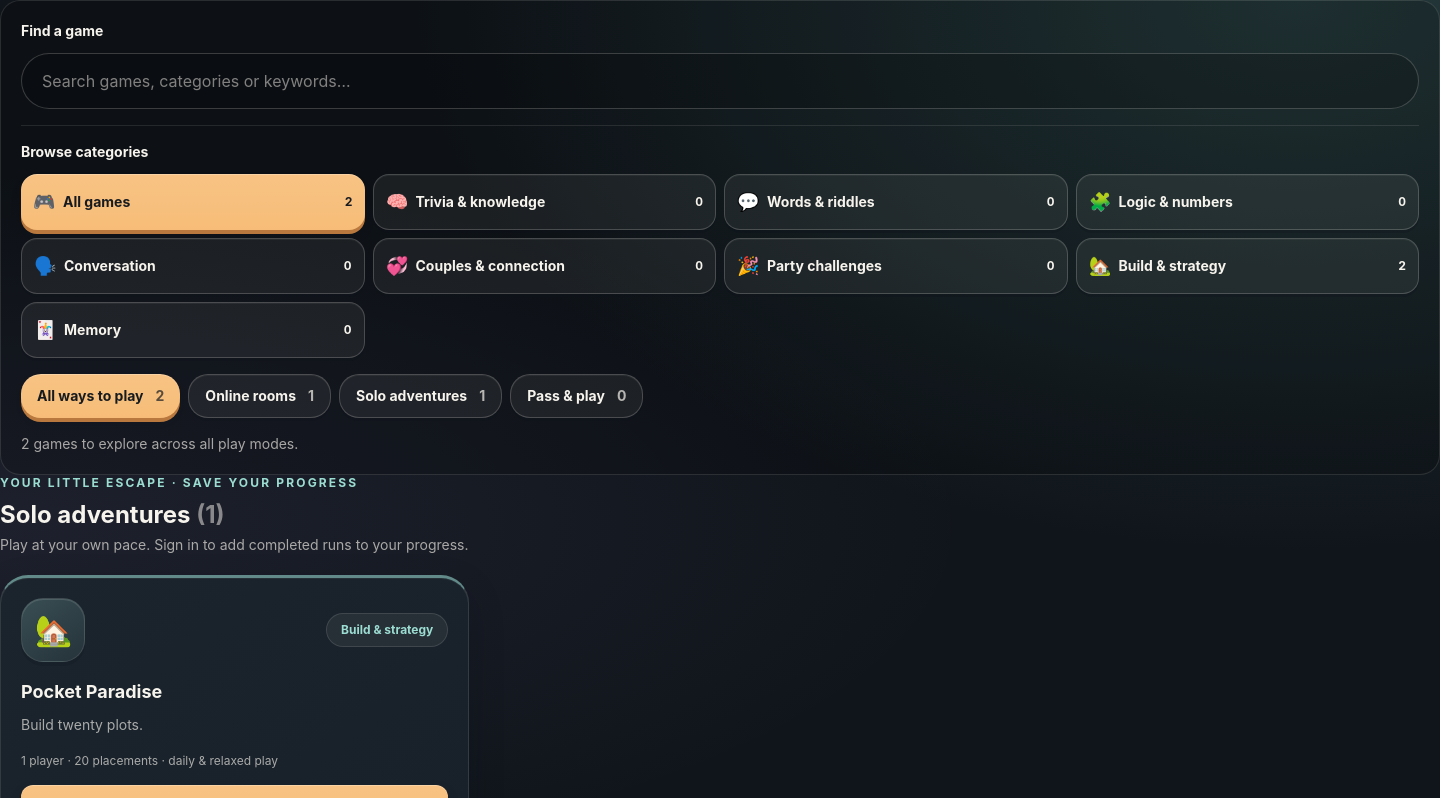
new strategy games retain distinct solo and online launch flows
Click the button "🏡 Build & strategy 2" at (1172, 266), box x1=1076 y1=238 x2=1419 y2=294
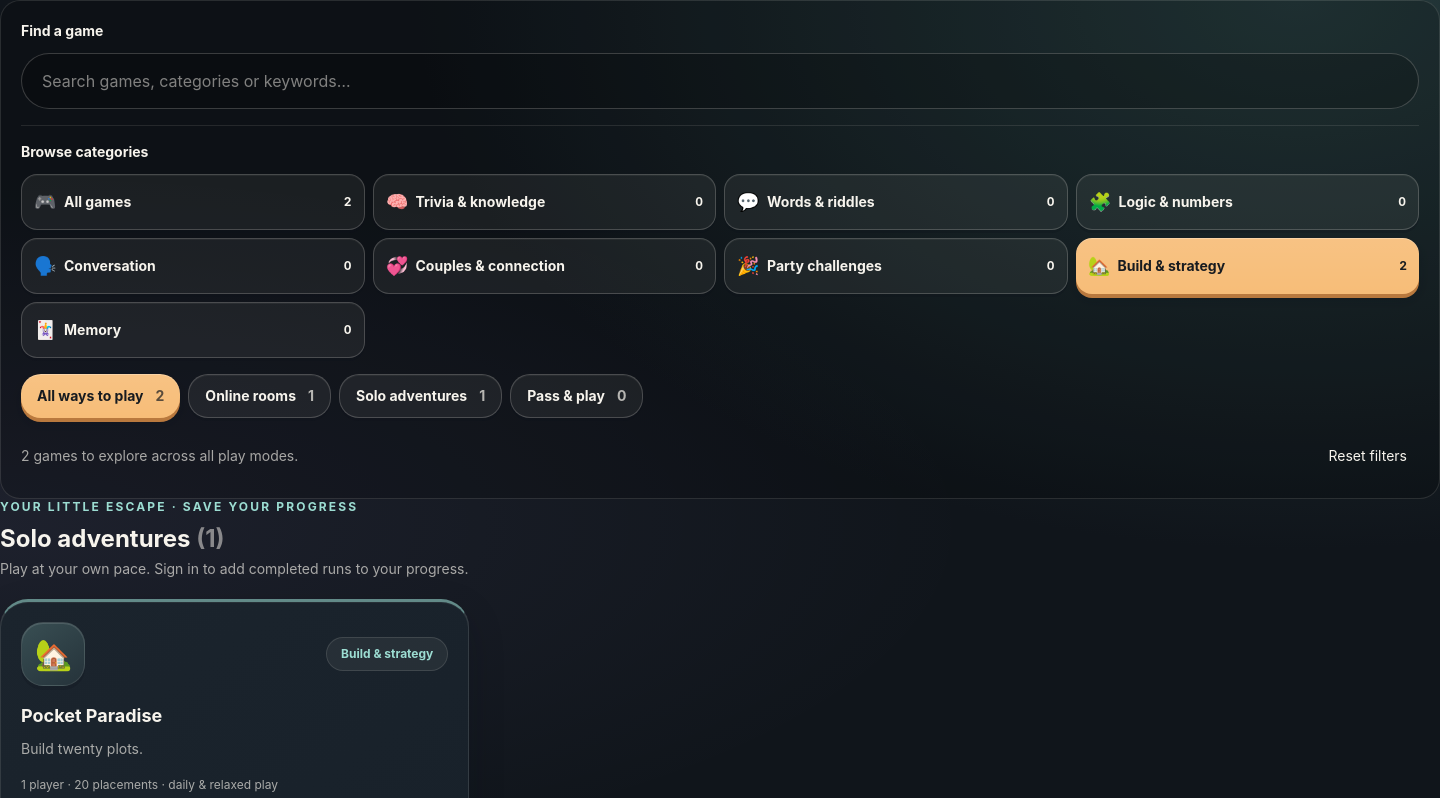
Click the button "Solo adventures 1" at (421, 396), box x1=339 y1=374 x2=502 y2=418
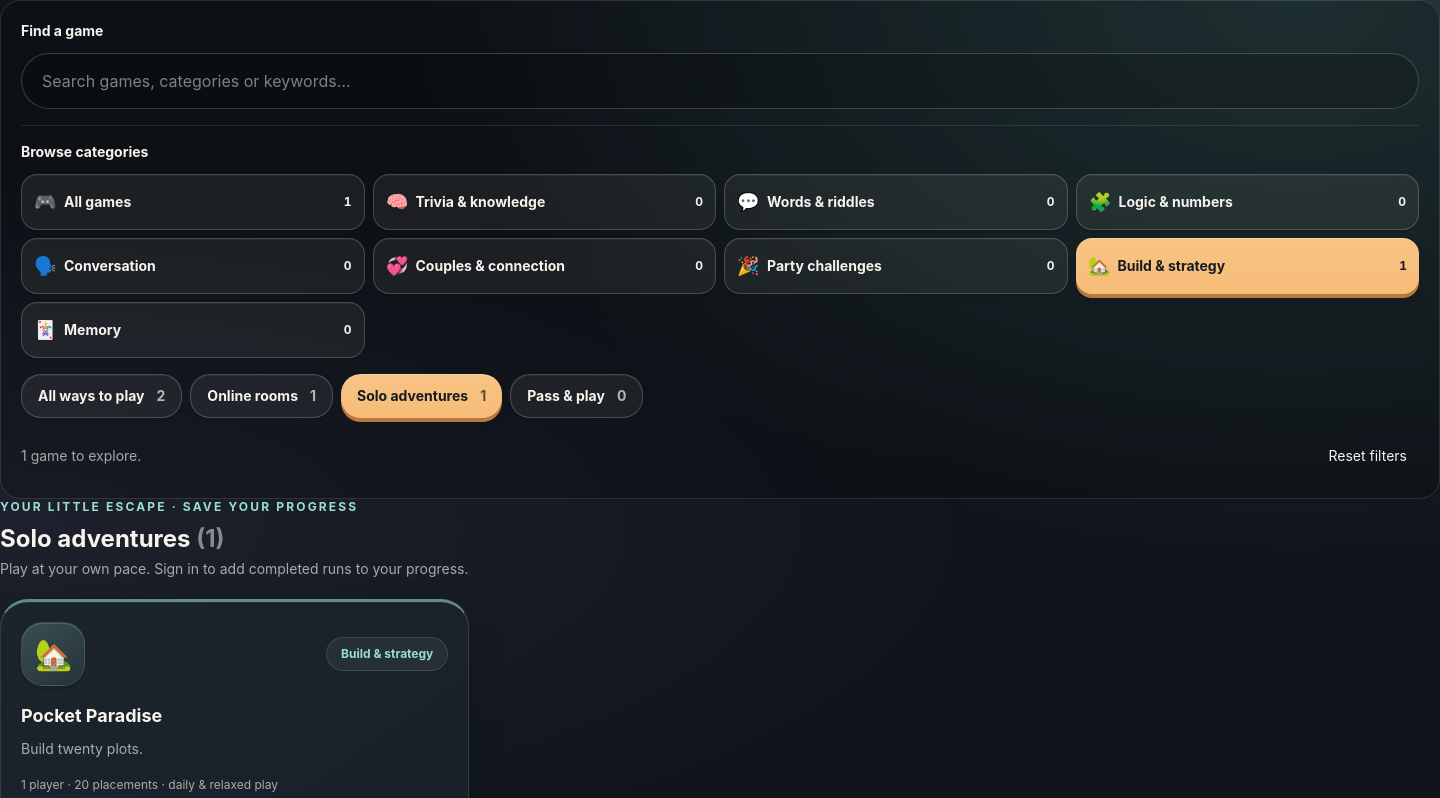
Type "missing" into the search field at (720, 81), box x1=21 y1=53 x2=1419 y2=109
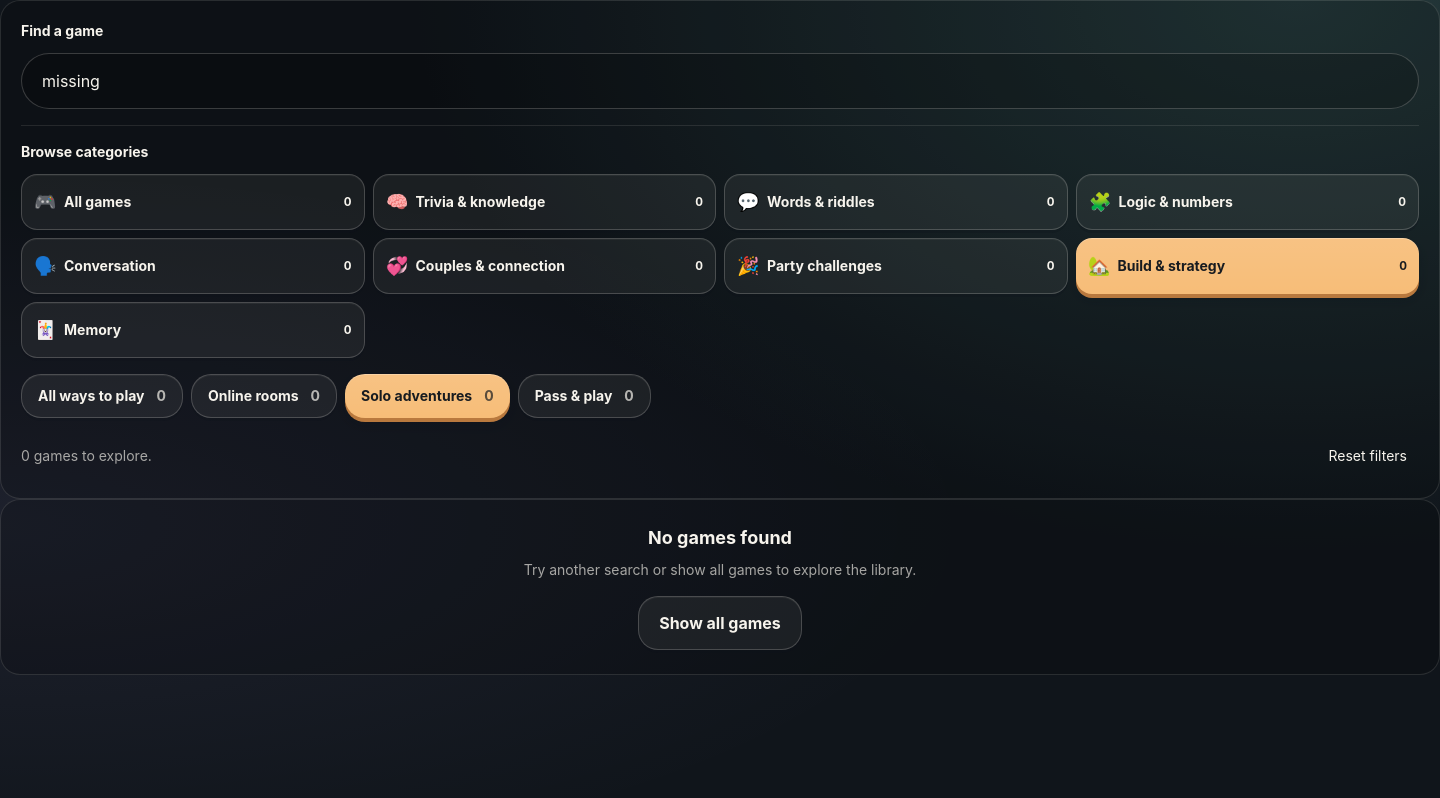
Check: the heading "No games found" is shown, box x1=648 y1=527 x2=792 y2=548
Click the button "Show all games" at (720, 623), box x1=638 y1=596 x2=802 y2=650
(page scrolled)
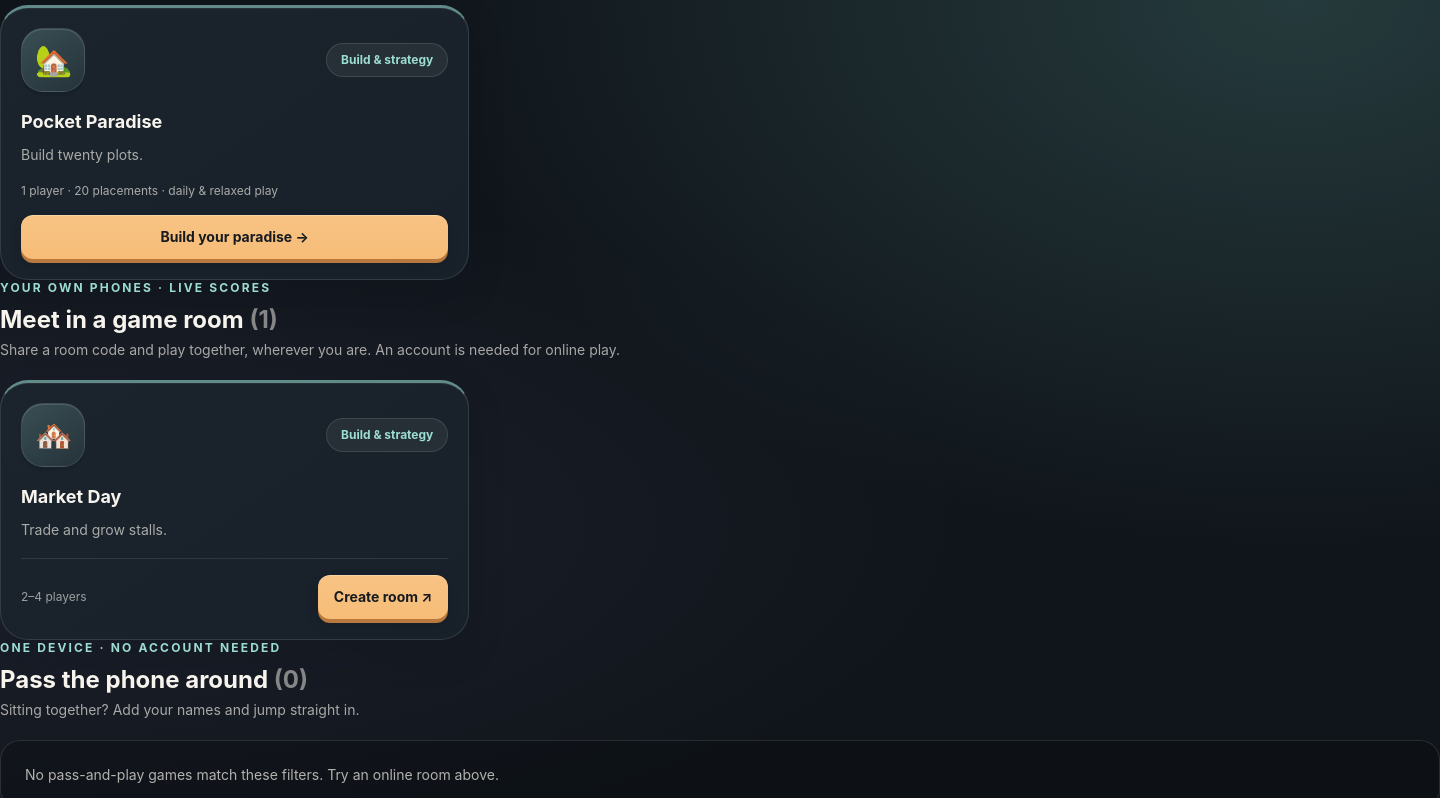
Check: the link with aria-label "Create Market Day room" is shown, box x1=318 y1=574 x2=448 y2=618
